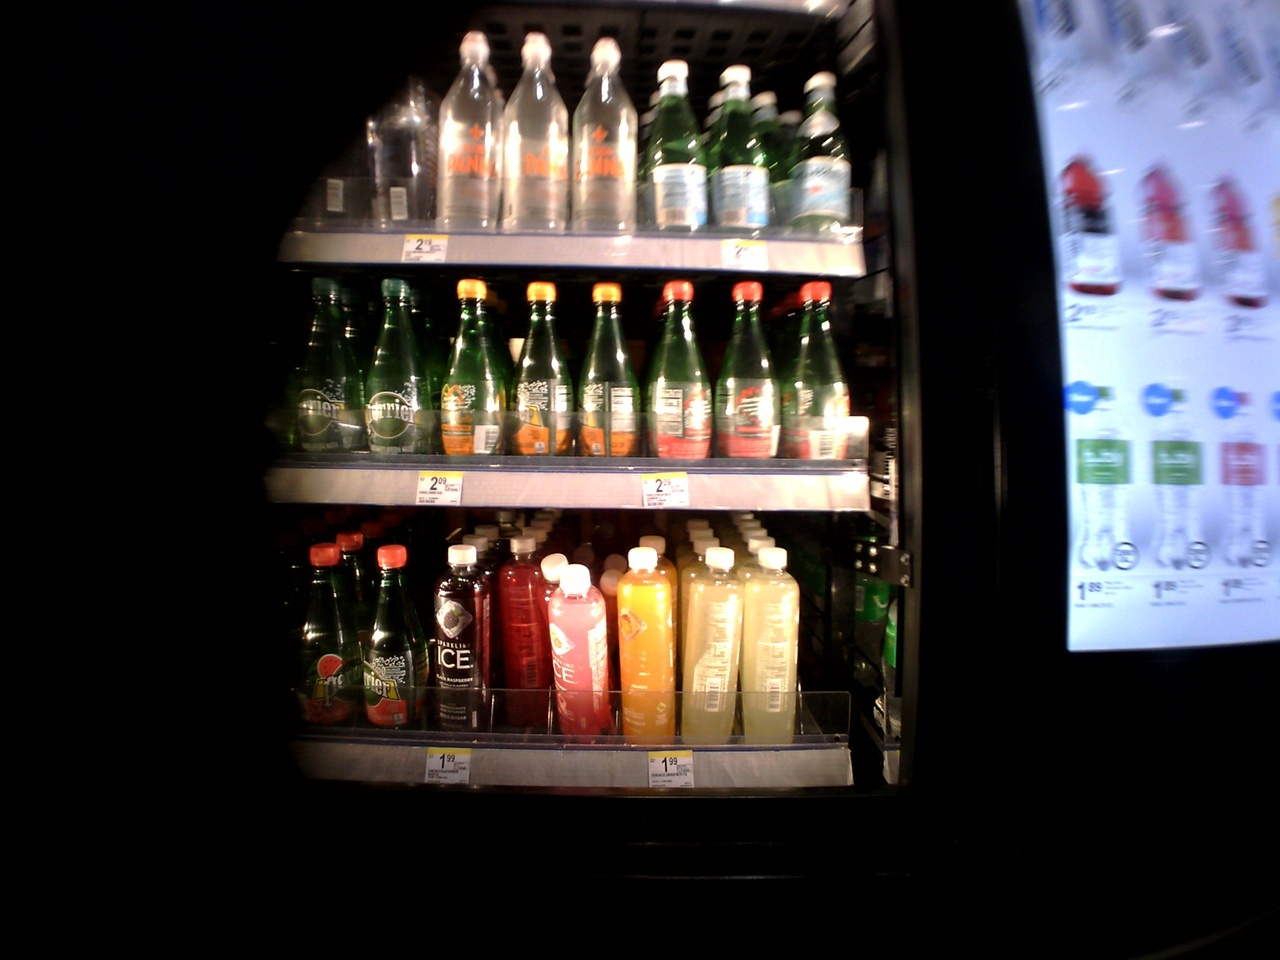shelf: (273, 510, 858, 791), (245, 261, 872, 503), (248, 44, 873, 284)
